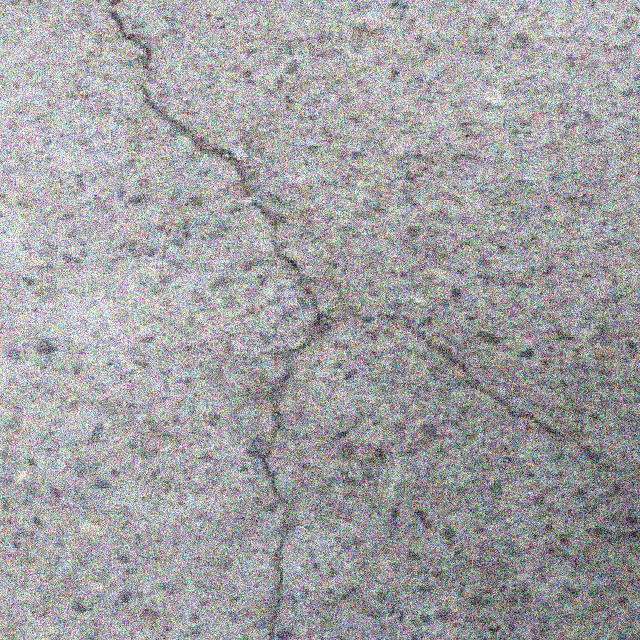SurfaceCrack: (76, 0, 640, 500), (212, 268, 360, 640)
